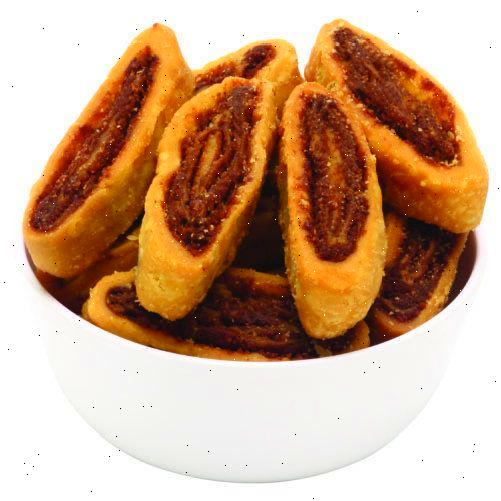bhakarwadi: (18, 20, 487, 356)
